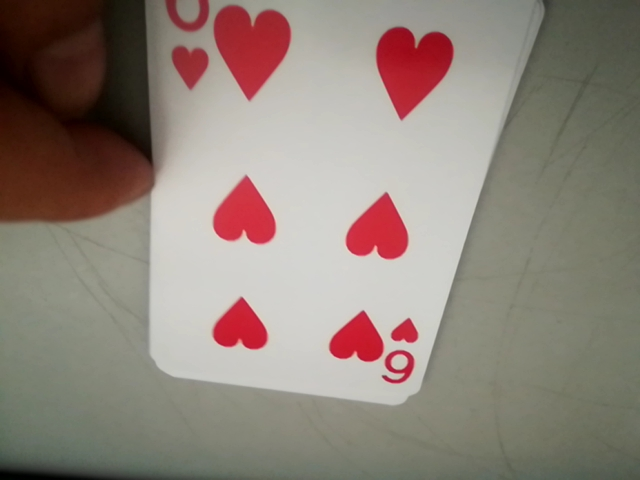hx 6: (375, 314, 426, 394)
